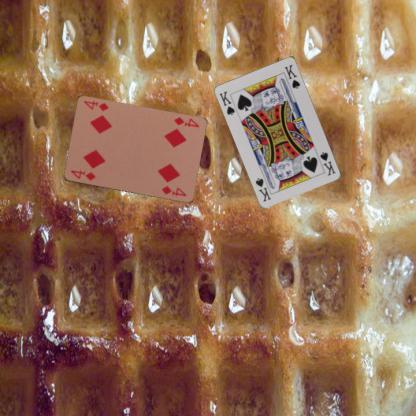4d: (171, 114, 200, 129), (68, 168, 97, 182)
Ks: (317, 149, 337, 177), (218, 88, 236, 117)
